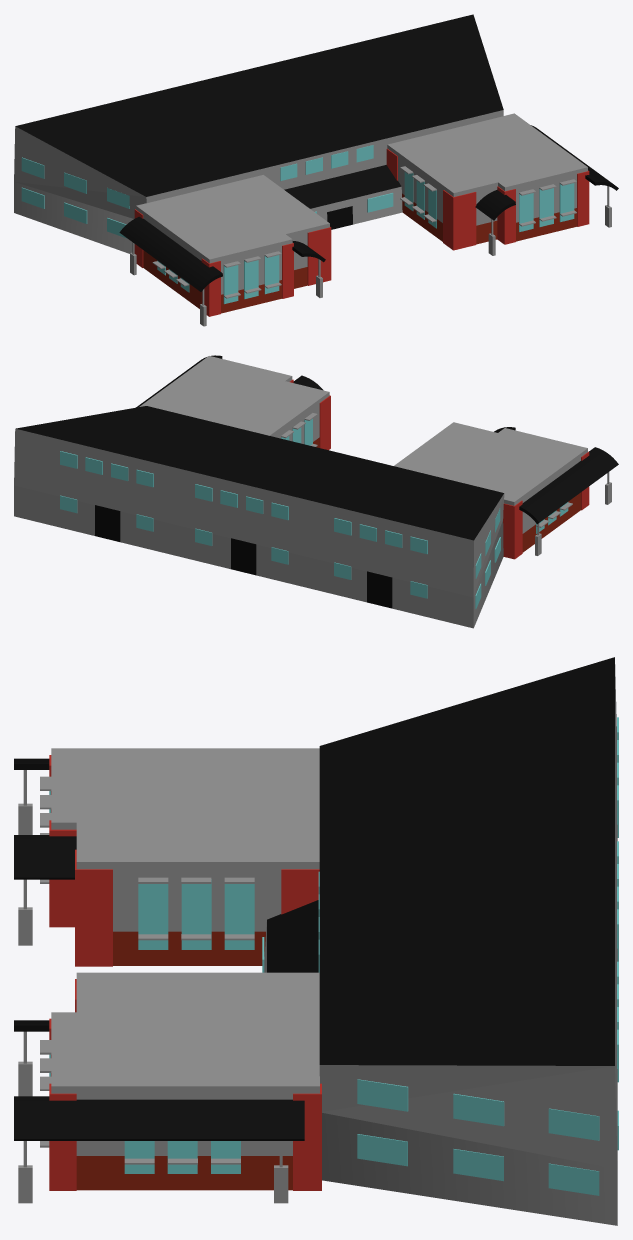
The model's file is school2.FBX.
3 views of the same model, one above another, from view 1: azimuth 30°, elevation 25°; view 2: azimuth 150°, elevation 25°; view 3: azimuth 270°, elevation 25° (orthographic). The views are drawn at different scales.
Parts seen in each view (by area): view 1: school_base; view 2: school_base; view 3: school_base.
Boxes of the visible parts, bbox=[...] form: school_base: bbox=[14, 14, 618, 326]; school_base: bbox=[14, 355, 618, 628]; school_base: bbox=[14, 657, 618, 1225].
Size of the model in its own units: 541 by 98.15 by 337.
